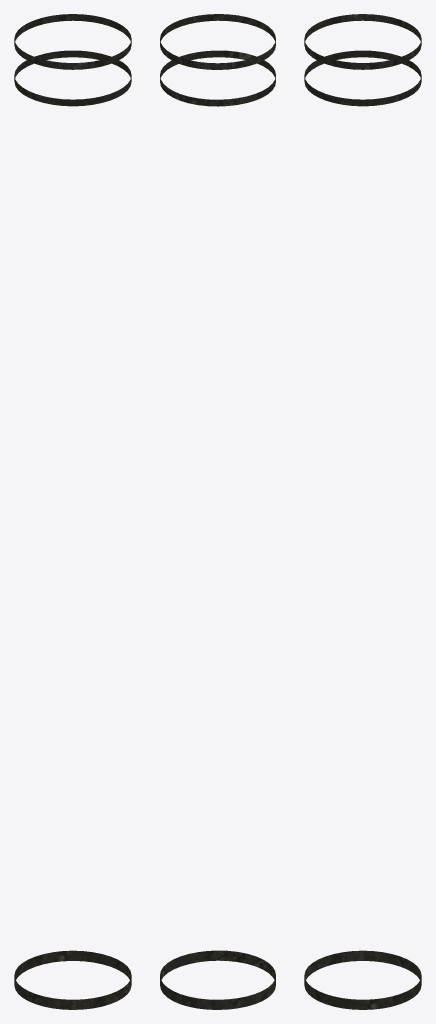
File: suidao_11.glb
3 renders of one model, left to right at view 1: azimuth 90°, elevation 25°; view 2: azimuth 150°, elevation 25°; view 3: azimuth 270°, elevation 25°, orthographic.
Visible parts, largest first — view 1: XSBYSZK_01; view 2: XSBYSZK_01; view 3: XSBYSZK_01.
Boxes of the visible parts, left/top/right/bottom form: XSBYSZK_01: left=14, top=14, right=131, bottom=1009; XSBYSZK_01: left=160, top=14, right=275, bottom=1009; XSBYSZK_01: left=304, top=14, right=421, bottom=1009.
Bounding box in the file's own units: 7.54 × 67.8 × 7.6.
Materials: 1 (1 with a texture image).
